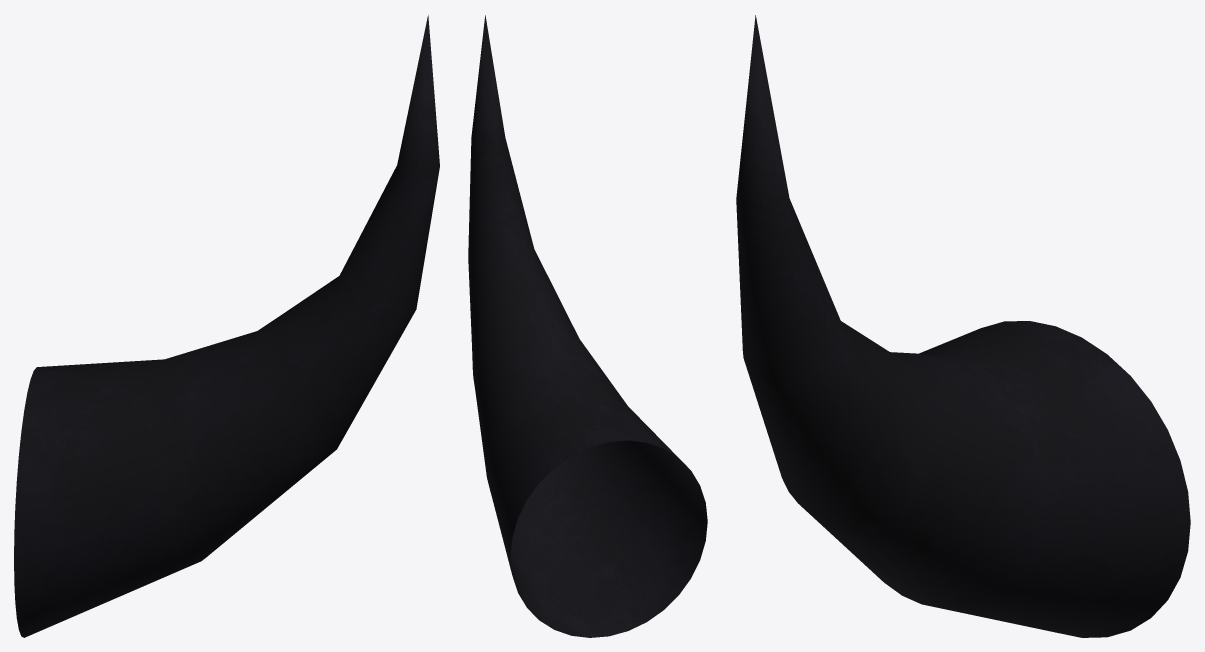
Rendered from newpinballdesign2.fbx.
3 renders of one model, left to right at view 1: azimuth 30°, elevation 25°; view 2: azimuth 150°, elevation 25°; view 3: azimuth 270°, elevation 25°, orthographic. The views are drawn at different scales.
Visible parts, largest first — view 1: newpinballdesign2; view 2: newpinballdesign2; view 3: newpinballdesign2.
Boxes of the visible parts, box(x1,y1,x2,y2) form: newpinballdesign2: box(14, 15, 439, 637); newpinballdesign2: box(468, 15, 707, 637); newpinballdesign2: box(736, 15, 1190, 637).
Size of the model in its own units: 31.02 by 52.09 by 27.27.
